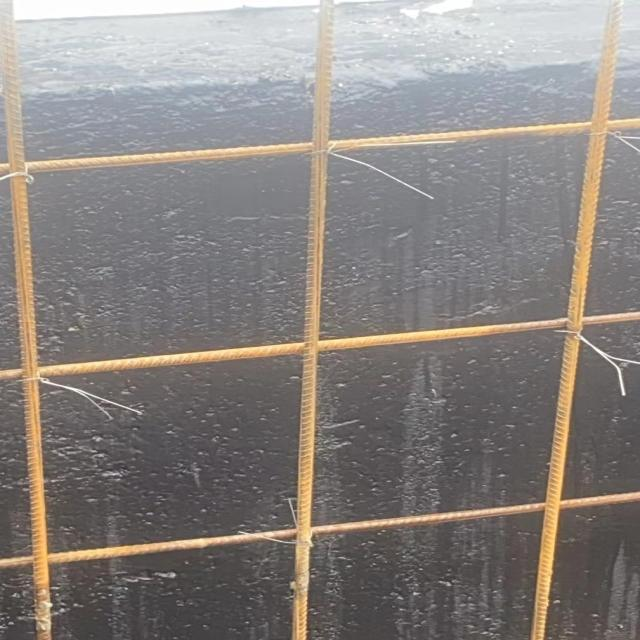ribbed bar: (529, 0, 622, 639), (0, 489, 639, 569), (0, 310, 639, 382), (0, 118, 639, 176), (2, 0, 54, 639), (289, 0, 331, 639)
